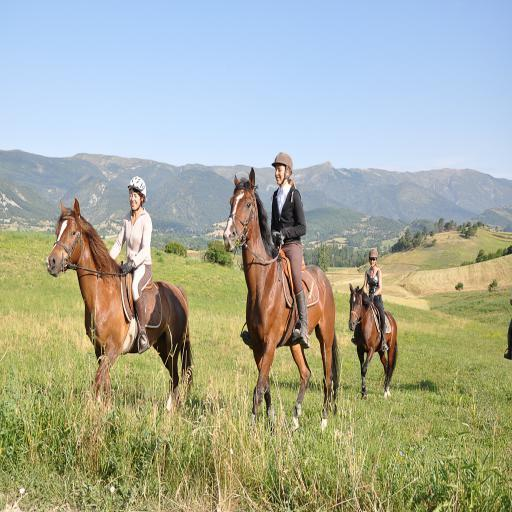horse: (46, 197, 196, 419), (222, 166, 341, 428), (346, 282, 398, 400)
